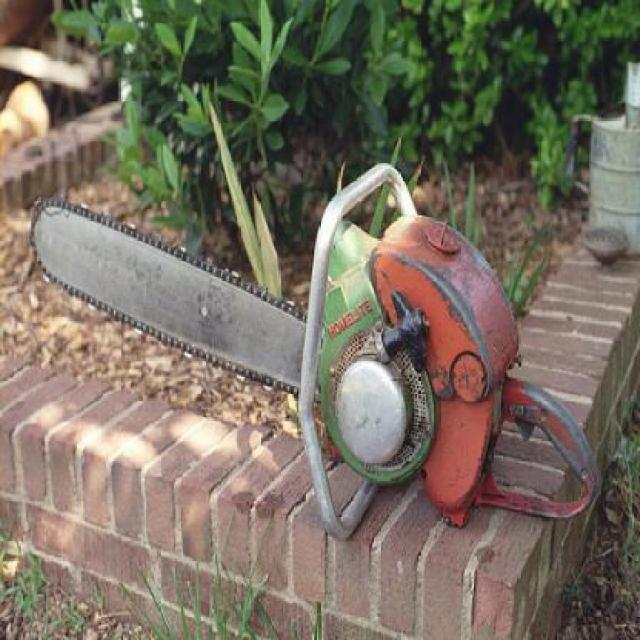Chainsaw: (28, 163, 603, 540)
